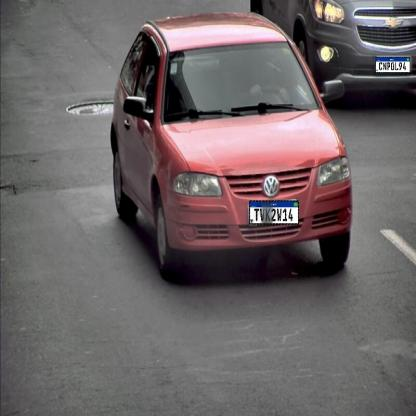PlacaM: (249, 200, 299, 225), (376, 57, 410, 73)
